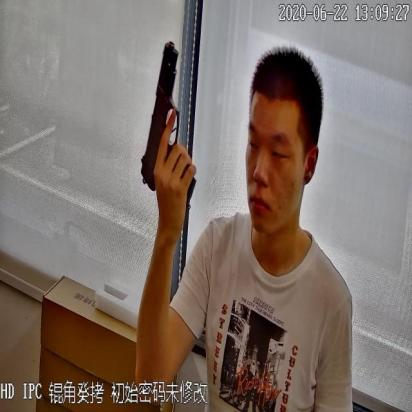Gun: (134, 36, 195, 206)
